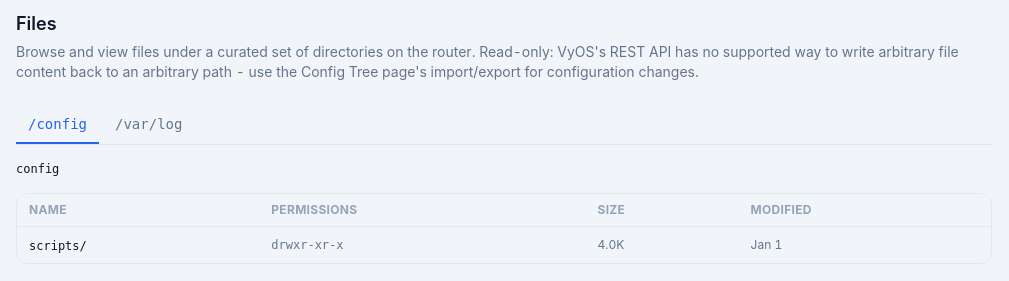
Test: FilesPage › navigates into a subdirectory when a directory row is clicked
Click the button "scripts/" at (58, 246), box [29,238,87,254]
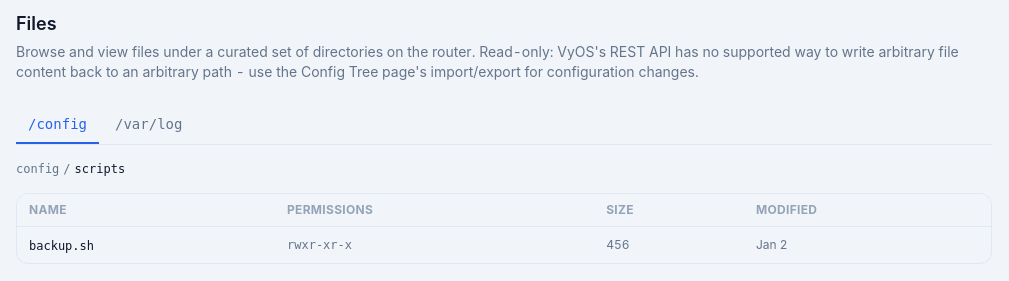
Check: the button "backup.sh" is shown, box [29,238,94,254]
